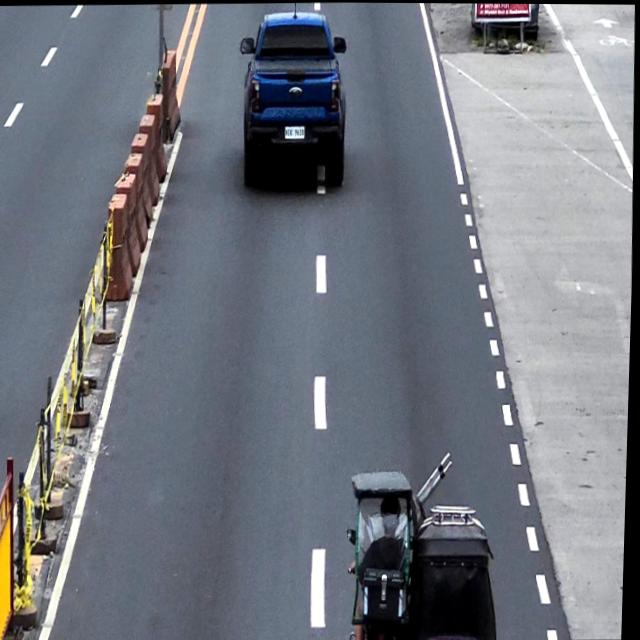Car: (237, 9, 352, 188)
License-Plate: (285, 126, 305, 139)
Tricycle: (344, 467, 502, 640)
